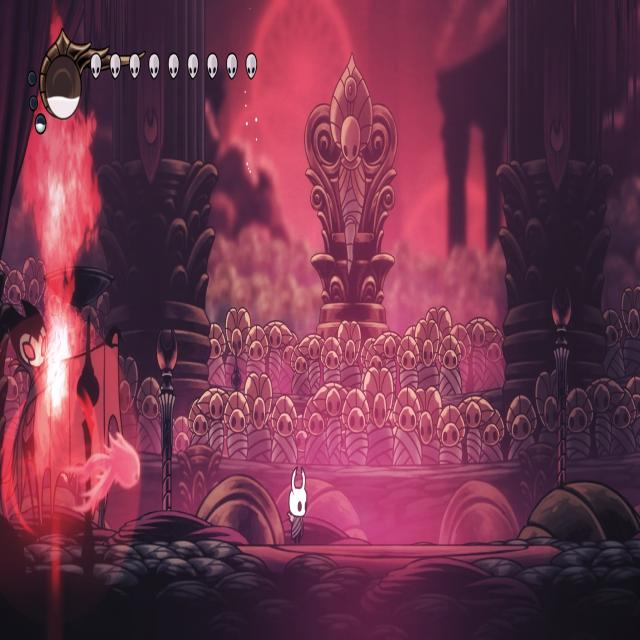Fire Bat: (68, 433, 142, 517)
Open Cloak: (0, 294, 126, 542)
Player: (285, 463, 309, 548)
